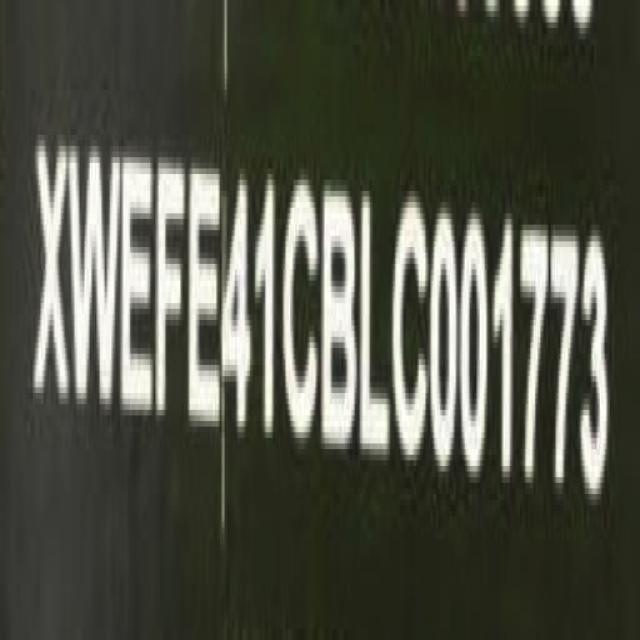0: (460, 195, 491, 485), (430, 192, 460, 480)
1: (492, 201, 518, 495), (255, 163, 281, 448)
3: (581, 228, 614, 511)
4: (221, 159, 255, 449)
7: (520, 211, 550, 499), (548, 218, 578, 502)
B: (322, 173, 359, 461)
C: (282, 168, 324, 458), (394, 188, 434, 472)
E: (186, 156, 226, 448), (120, 146, 158, 432)
F: (153, 146, 190, 439)
L: (358, 182, 394, 470)
W: (69, 132, 122, 431)
X: (32, 127, 72, 427)
